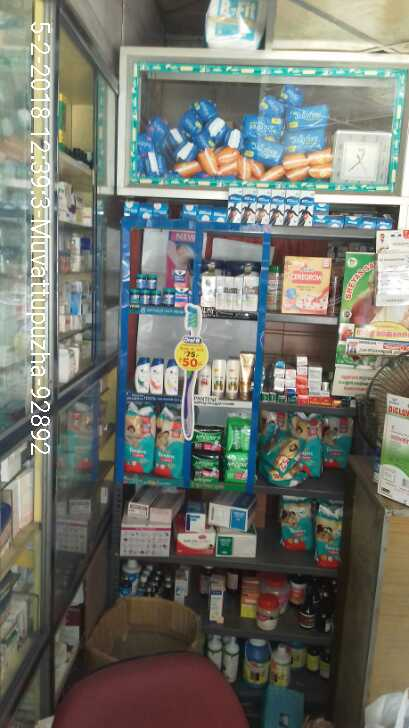vicks: (126, 262, 192, 309)
